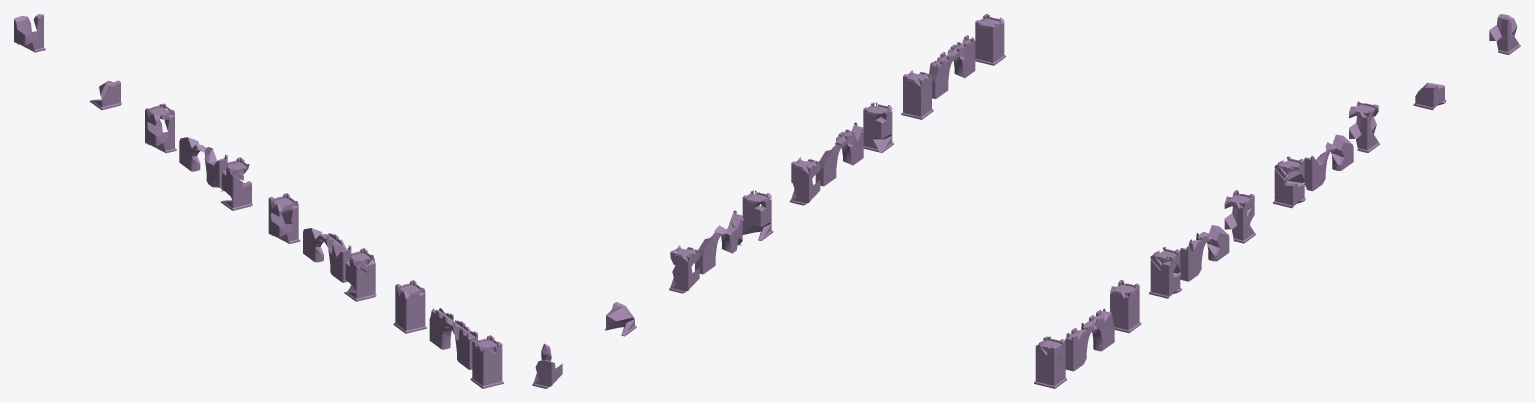
The model's file is DestructionTowersAndGates.fbx.
3 renders of one model, left to right at view 1: azimuth 30°, elevation 25°; view 2: azimuth 150°, elevation 25°; view 3: azimuth 330°, elevation 25°, orthographic. The views are drawn at different scales.
Visible parts, largest first — view 1: DM1, DL1, DR1, DM2, DL2, DR2, DM3, DR3, DL3, DR4, DL4; view 2: DM1, DM2, DL1, DL2, DM3, DR1, DL3, DR2, DR3, DR4, DL4; view 3: DM1, DM2, DM3, DL1, DL2, DL3, DR1, DR2, DR3, DR4, DL4.
Boxes of the visible parts, x1=… form: DM1: x1=429, y1=308, x2=477, y2=369; DL1: x1=470, y1=335, x2=503, y2=388; DR1: x1=393, y1=280, x2=426, y2=333; DM2: x1=303, y1=228, x2=351, y2=282; DL2: x1=344, y1=248, x2=376, y2=301; DR2: x1=268, y1=193, x2=300, y2=243; DM3: x1=179, y1=137, x2=227, y2=191; DR3: x1=145, y1=103, x2=176, y2=153; DL3: x1=220, y1=157, x2=252, y2=210; DR4: x1=14, y1=14, x2=45, y2=52; DL4: x1=89, y1=80, x2=121, y2=110; DM1: x1=929, y1=35, x2=975, y2=98; DM2: x1=815, y1=122, x2=863, y2=186; DL1: x1=975, y1=14, x2=1005, y2=65; DL2: x1=863, y1=102, x2=893, y2=152; DM3: x1=695, y1=210, x2=742, y2=274; DR1: x1=901, y1=70, x2=933, y2=119; DL3: x1=742, y1=190, x2=773, y2=240; DR2: x1=790, y1=157, x2=820, y2=205; DR3: x1=669, y1=245, x2=699, y2=293; DR4: x1=532, y1=343, x2=562, y2=388; DL4: x1=605, y1=302, x2=636, y2=336; DM1: x1=1065, y1=308, x2=1114, y2=371; DM2: x1=1180, y1=225, x2=1229, y2=281; DM3: x1=1304, y1=134, x2=1353, y2=191; DL1: x1=1034, y1=336, x2=1066, y2=388; DL2: x1=1149, y1=246, x2=1181, y2=298; DL3: x1=1273, y1=156, x2=1305, y2=208; DR1: x1=1110, y1=279, x2=1141, y2=333; DR2: x1=1224, y1=190, x2=1256, y2=243; DR3: x1=1349, y1=101, x2=1380, y2=152; DR4: x1=1489, y1=14, x2=1520, y2=54; DL4: x1=1413, y1=82, x2=1446, y2=110.
Bounding box in the file's own units: 848 × 1220 × 25128.
